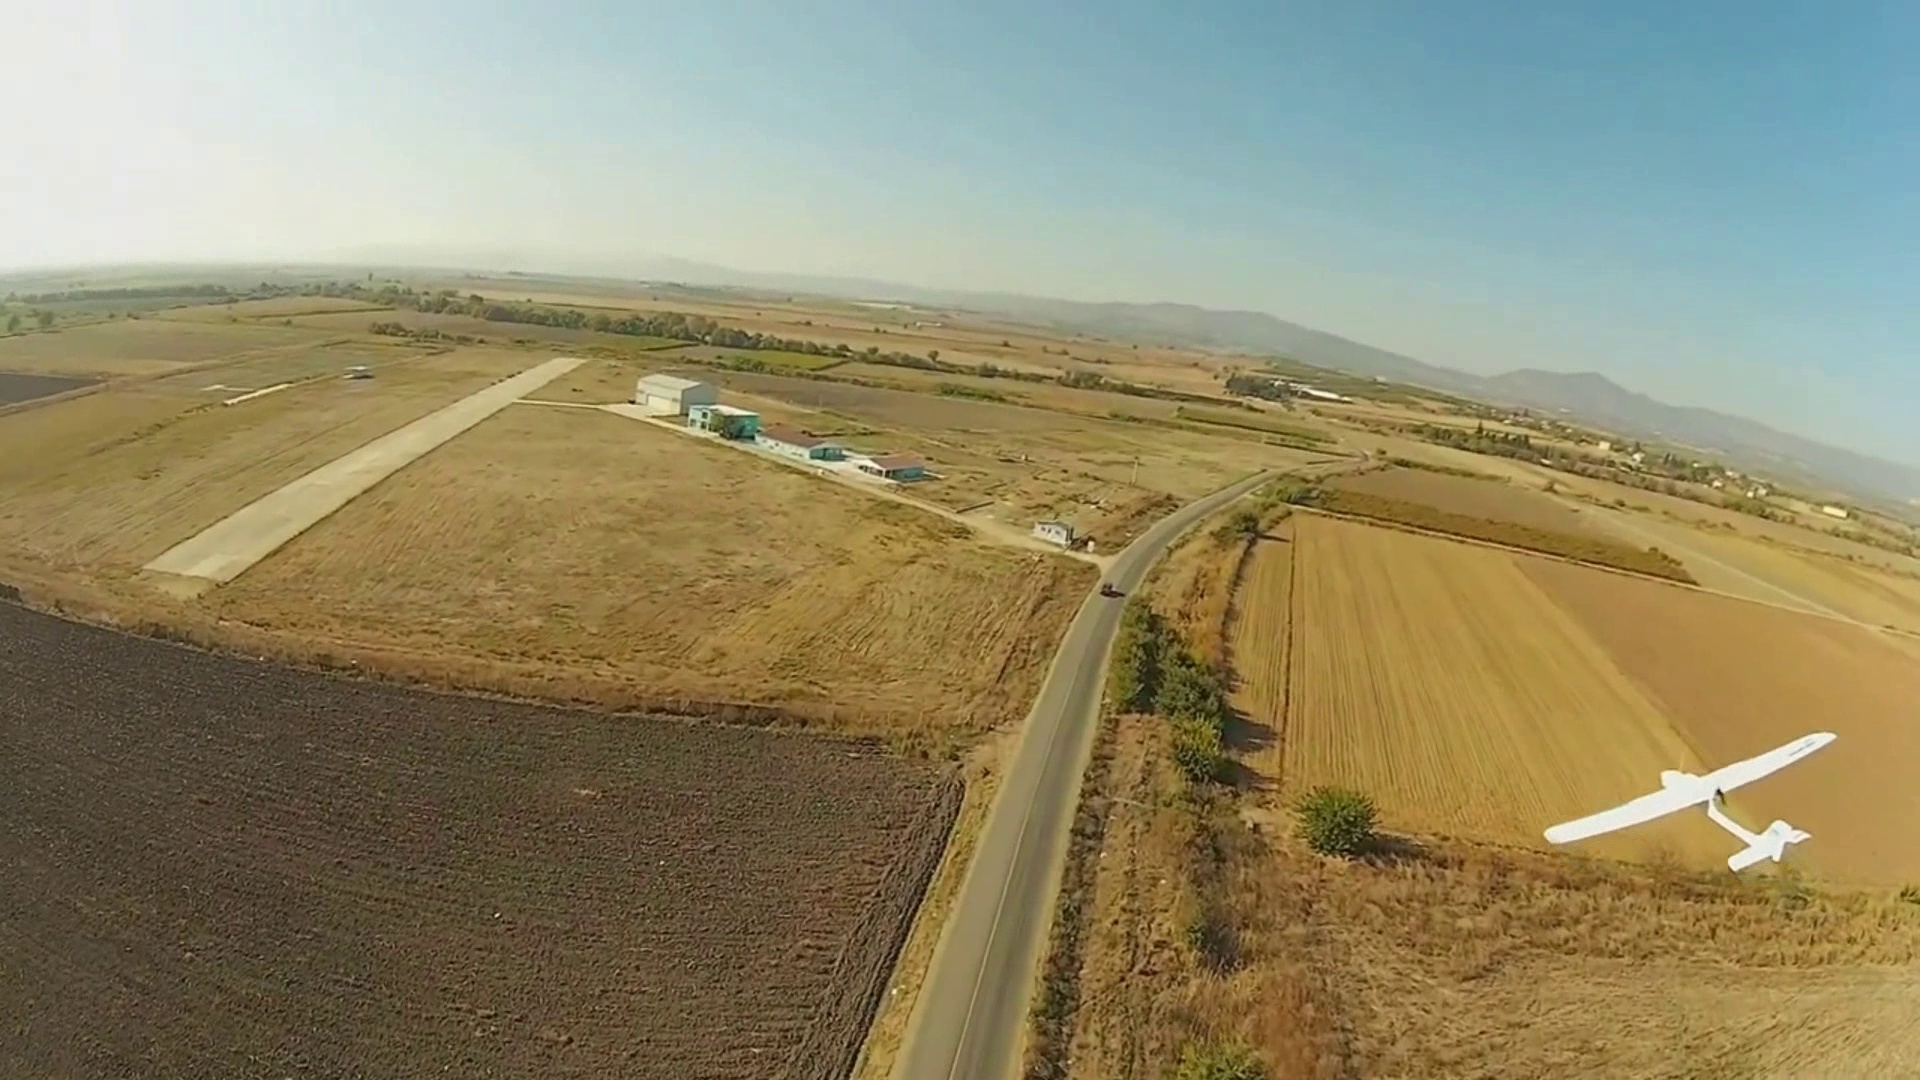airplane: (1540, 729, 1837, 877)
